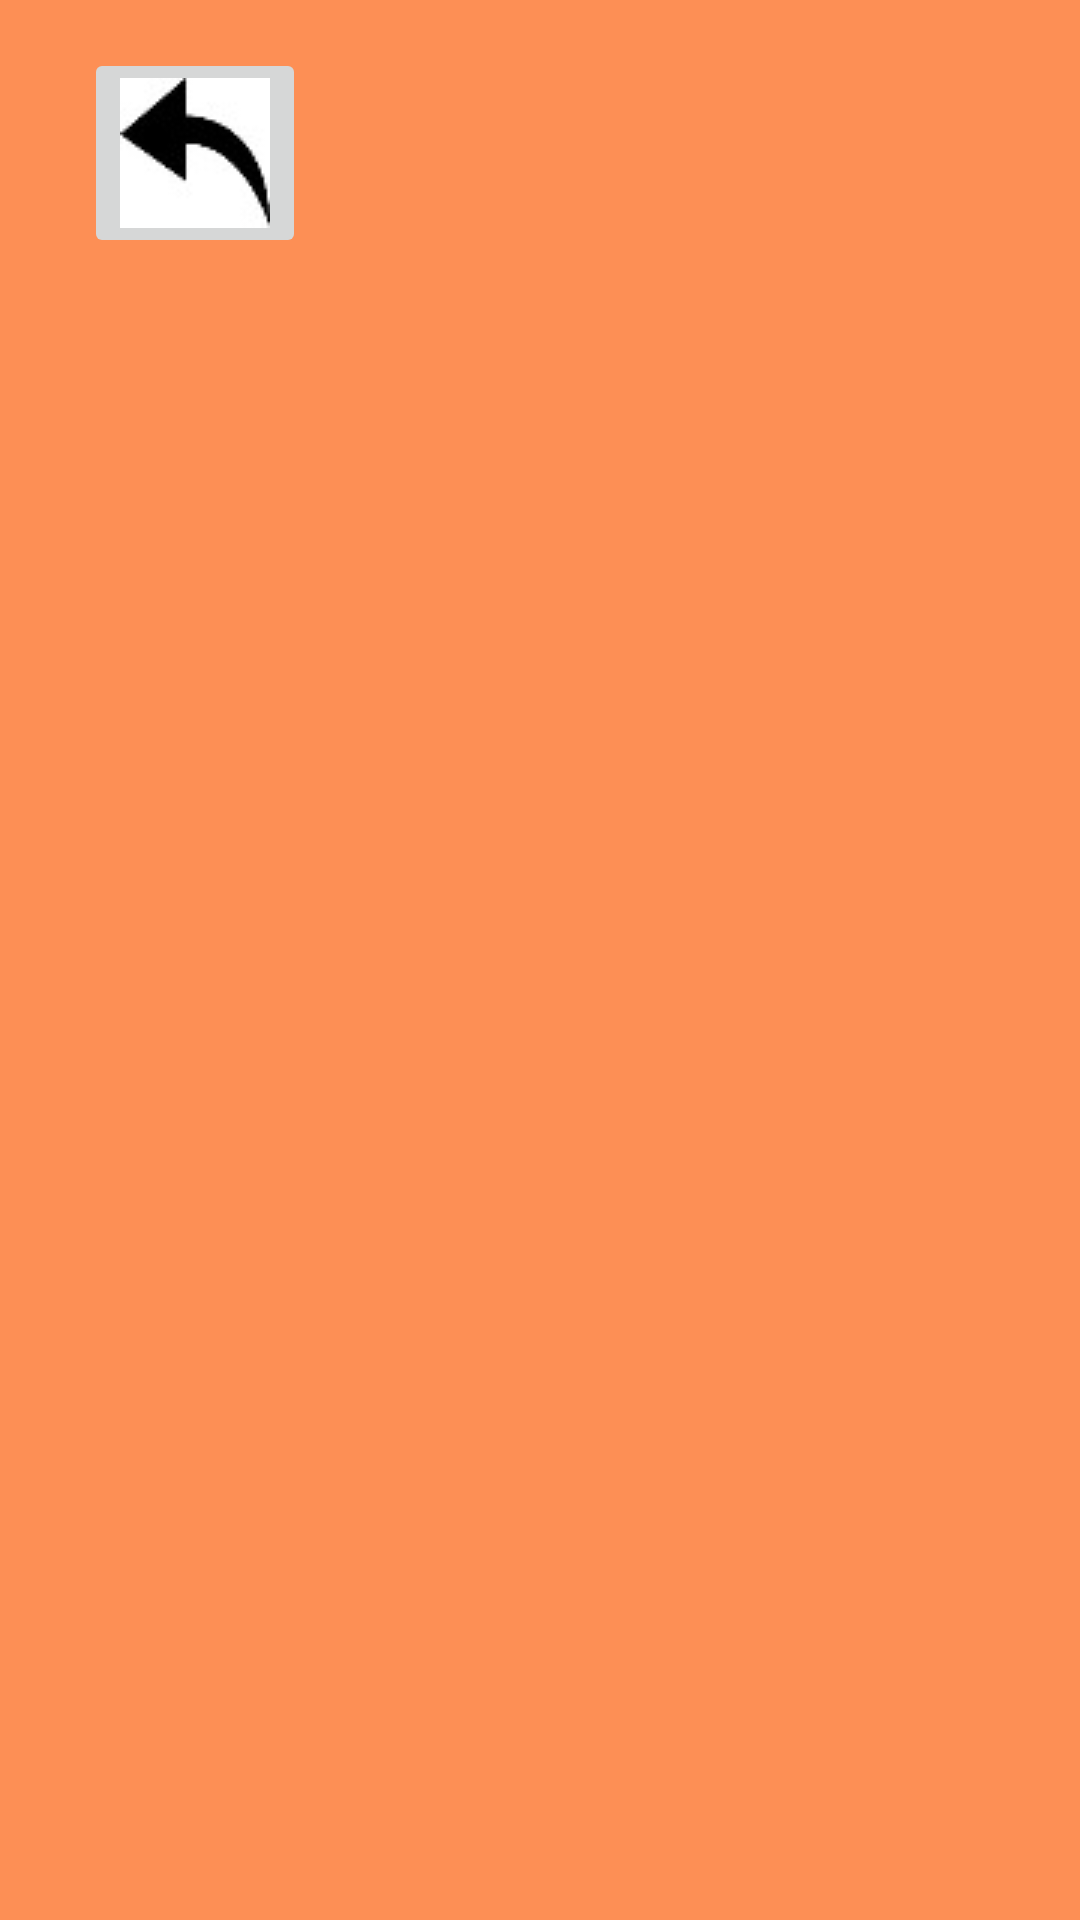

Icons on this 1080 × 1920 Android screen, each with the point to tap as (x,y):
volver: (195,153)
